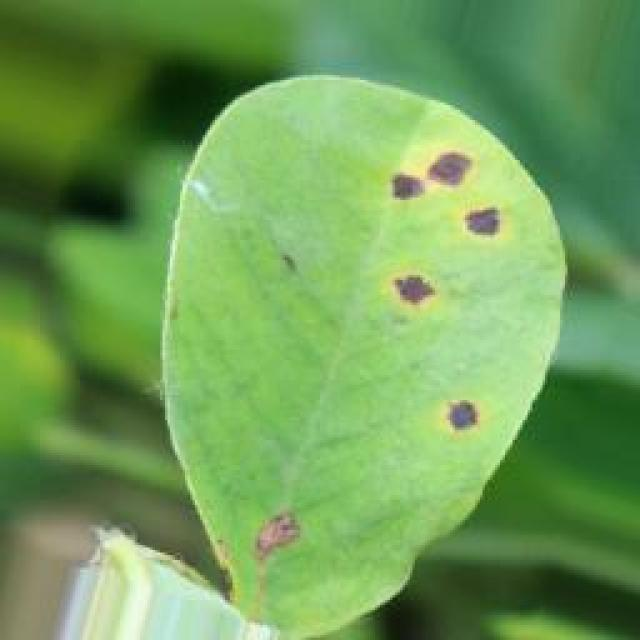Yellowish: (362, 109, 520, 340), (220, 485, 334, 594), (412, 378, 522, 444)
